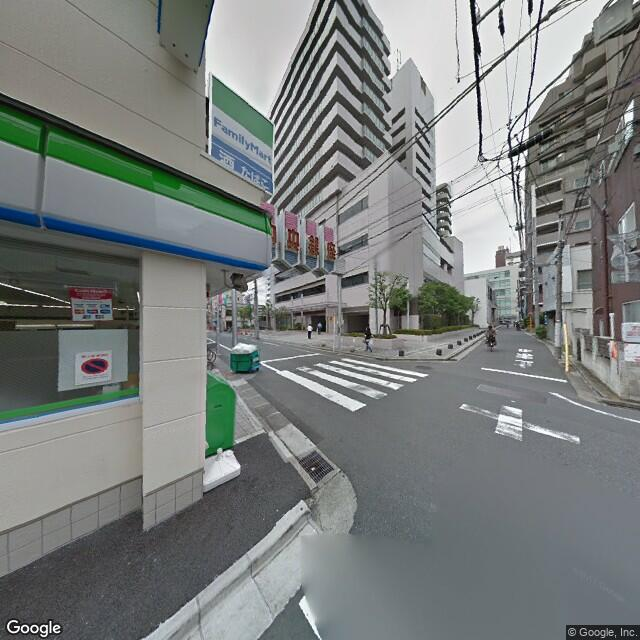family_mart: (3, 108, 277, 271), (208, 70, 277, 183)
